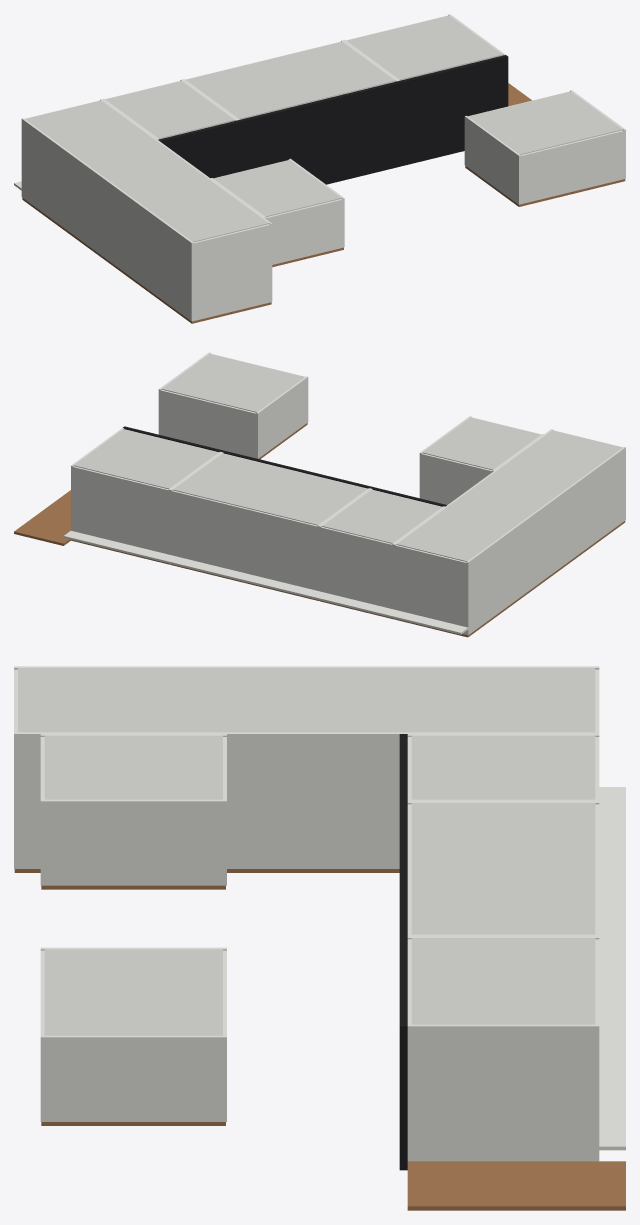
File: Cozinha_Linear_3600_moveis.obj
3 renders of one model, top to bottom at view 1: azimuth 30°, elevation 25°; view 2: azimuth 150°, elevation 25°; view 3: azimuth 270°, elevation 25°, orthographic. The views are drawn at different scales.
Parts seen in each view (by area): view 1: M01_tall_cabinet, M02_drawer_cabinet, M07_wall_cabinet, M03_sink_cabinet, M06_wall_cabinet, M04_base_cabinet; view 2: M01_tall_cabinet, M03_sink_cabinet, M04_base_cabinet, M07_wall_cabinet, M02_drawer_cabinet, M06_wall_cabinet, M05_filler; view 3: M01_tall_cabinet, M04_base_cabinet, M07_wall_cabinet, M03_sink_cabinet, M06_wall_cabinet, M02_drawer_cabinet, M05_filler.
Boxes of the visible parts, bbox=[...] form: M01_tall_cabinet: bbox=[14, 99, 272, 323]; M02_drawer_cabinet: bbox=[102, 55, 508, 184]; M07_wall_cabinet: bbox=[464, 90, 625, 206]; M03_sink_cabinet: bbox=[182, 40, 398, 119]; M06_wall_cabinet: bbox=[210, 158, 344, 267]; M04_base_cabinet: bbox=[343, 14, 505, 80]; M01_tall_cabinet: bbox=[386, 429, 625, 637]; M03_sink_cabinet: bbox=[163, 452, 370, 600]; M04_base_cabinet: bbox=[63, 428, 221, 564]; M07_wall_cabinet: bbox=[158, 352, 308, 459]; M02_drawer_cabinet: bbox=[123, 426, 446, 619]; M06_wall_cabinet: bbox=[419, 416, 543, 504]; M05_filler: bbox=[14, 490, 71, 545]; M01_tall_cabinet: bbox=[14, 666, 625, 872]; M04_base_cabinet: bbox=[407, 936, 625, 1161]; M07_wall_cabinet: bbox=[40, 947, 226, 1125]; M03_sink_cabinet: bbox=[407, 801, 625, 1056]; M06_wall_cabinet: bbox=[40, 734, 226, 889]; M02_drawer_cabinet: bbox=[399, 734, 625, 1170]; M05_filler: bbox=[407, 1161, 625, 1210].
Size of the model in its own units: 3600 by 598 by 2300.
